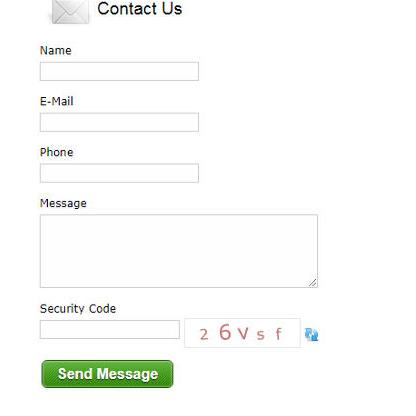button: (41, 359, 175, 390)
field: (39, 213, 318, 289), (39, 163, 200, 184), (39, 61, 199, 82), (39, 112, 199, 133), (39, 319, 180, 341)
